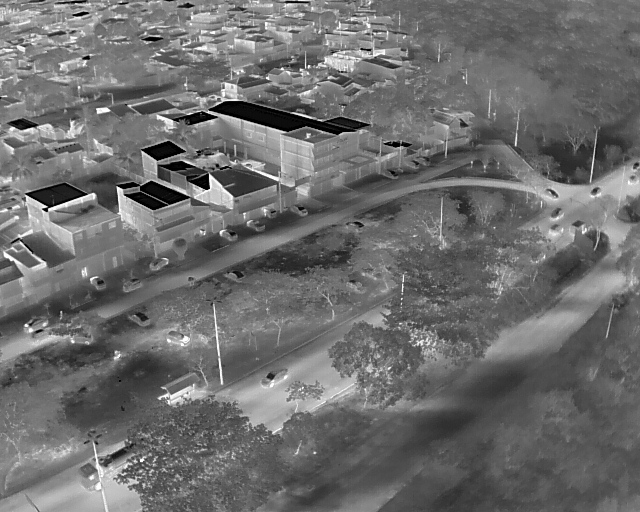car: (263, 359, 284, 394), (65, 328, 97, 346), (19, 313, 51, 331), (25, 326, 56, 344), (169, 323, 187, 351), (144, 255, 172, 272), (119, 275, 147, 292), (132, 304, 148, 330), (547, 217, 564, 240), (570, 216, 586, 239), (221, 267, 246, 281), (549, 202, 563, 225), (410, 152, 432, 166), (380, 166, 402, 180), (287, 202, 309, 216), (217, 227, 239, 241), (86, 276, 108, 290), (401, 158, 422, 172), (344, 218, 365, 232), (540, 185, 561, 199), (244, 218, 266, 231), (589, 181, 603, 201), (258, 206, 280, 218), (626, 173, 640, 188), (630, 160, 640, 171)
person: (80, 268, 85, 278), (84, 266, 89, 275), (200, 227, 205, 236), (203, 228, 208, 237), (262, 207, 267, 216), (242, 212, 247, 221)
truck: (72, 438, 179, 475)
